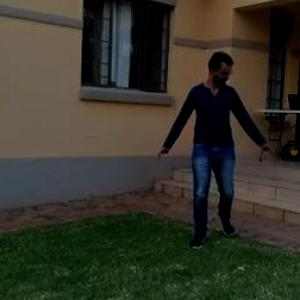land: (140, 34, 278, 260)
